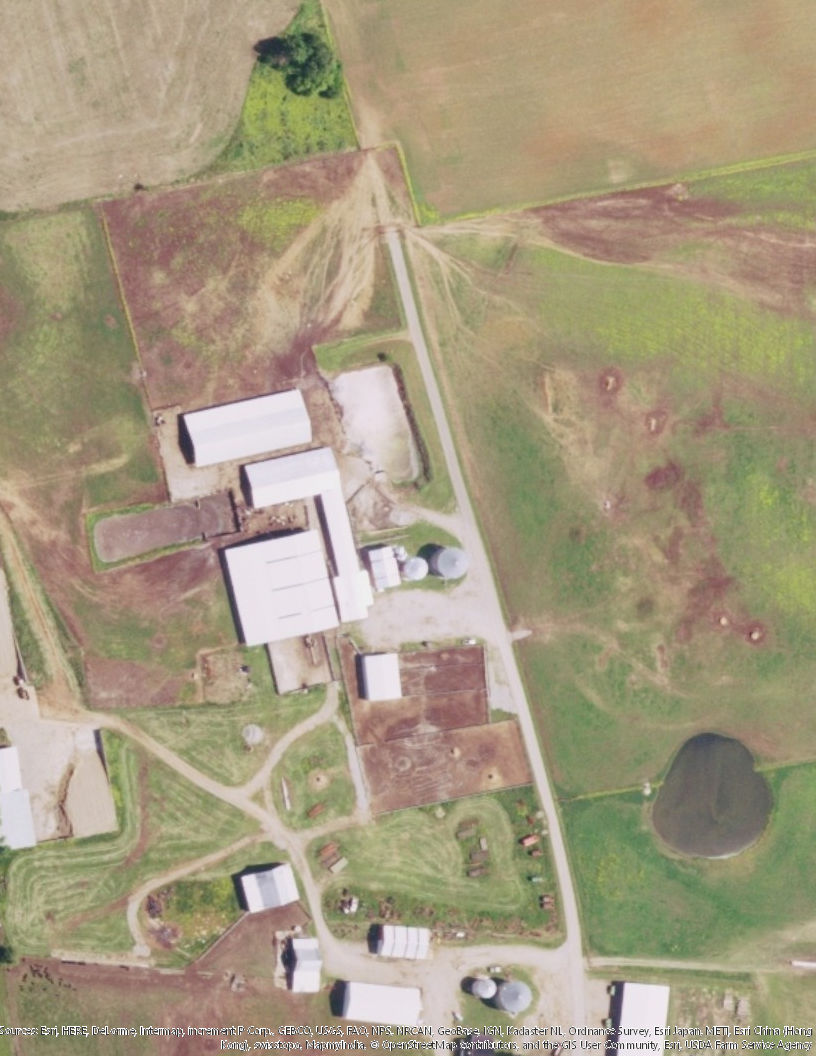cafo: (214, 444, 383, 645), (175, 385, 329, 462), (346, 973, 439, 1034), (611, 974, 677, 1056)
